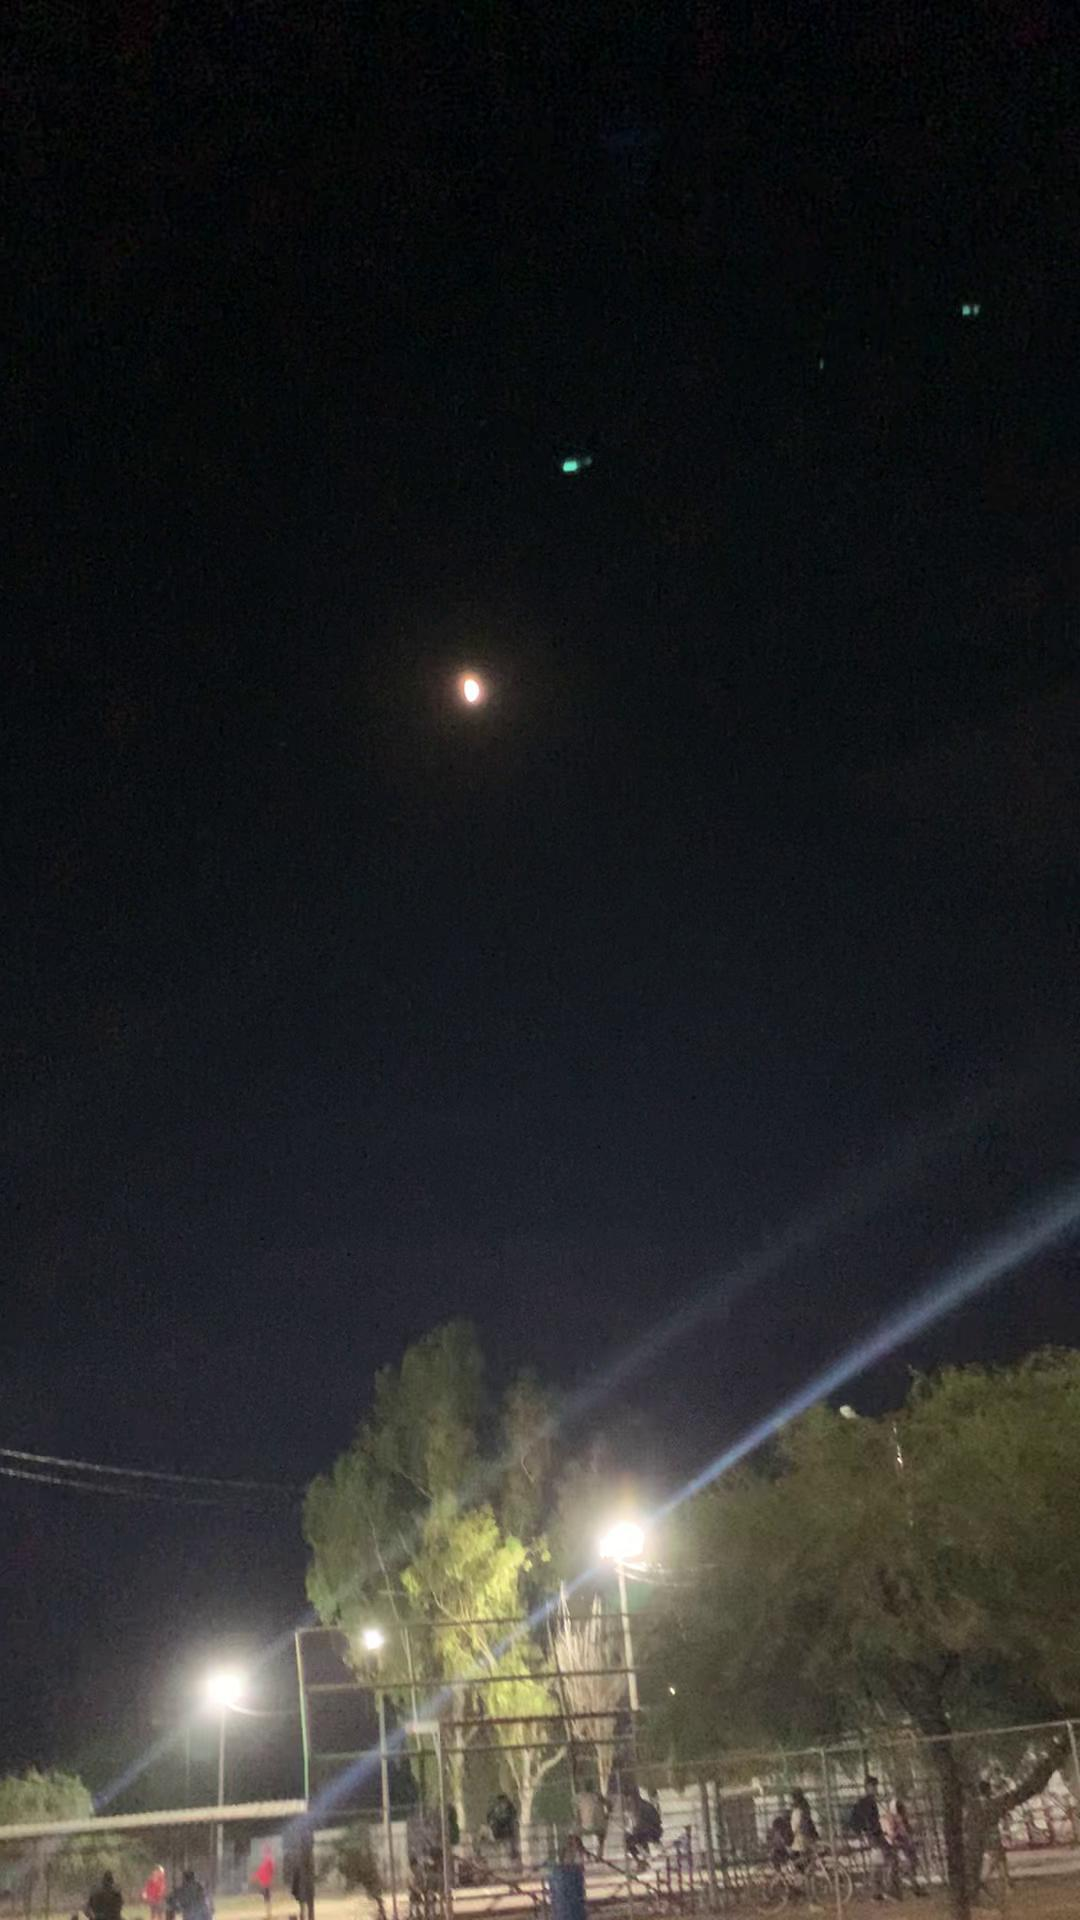moon: (433, 629, 495, 704)
